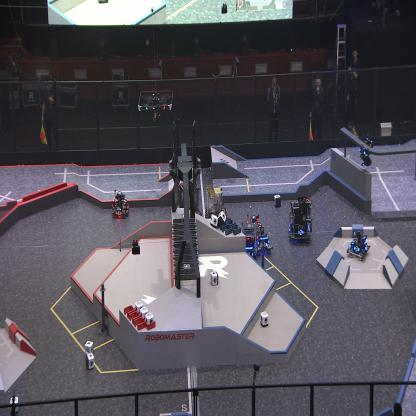car: (287, 195, 313, 246), (178, 178, 203, 228), (204, 185, 228, 225), (240, 219, 258, 260), (347, 230, 370, 260), (111, 190, 130, 219), (256, 226, 272, 254), (248, 212, 265, 236)
